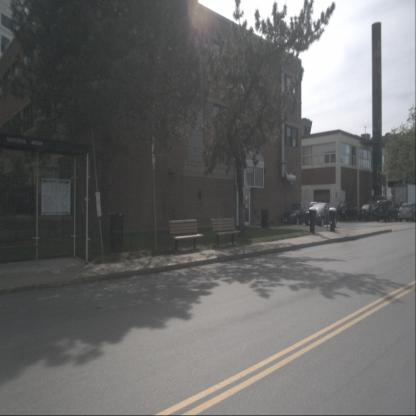vehicle-car: (304, 203, 337, 227), (282, 202, 310, 226), (375, 199, 400, 222), (358, 203, 381, 222), (397, 202, 416, 223)
vehicle-truck: (394, 183, 416, 217), (335, 201, 358, 221)
